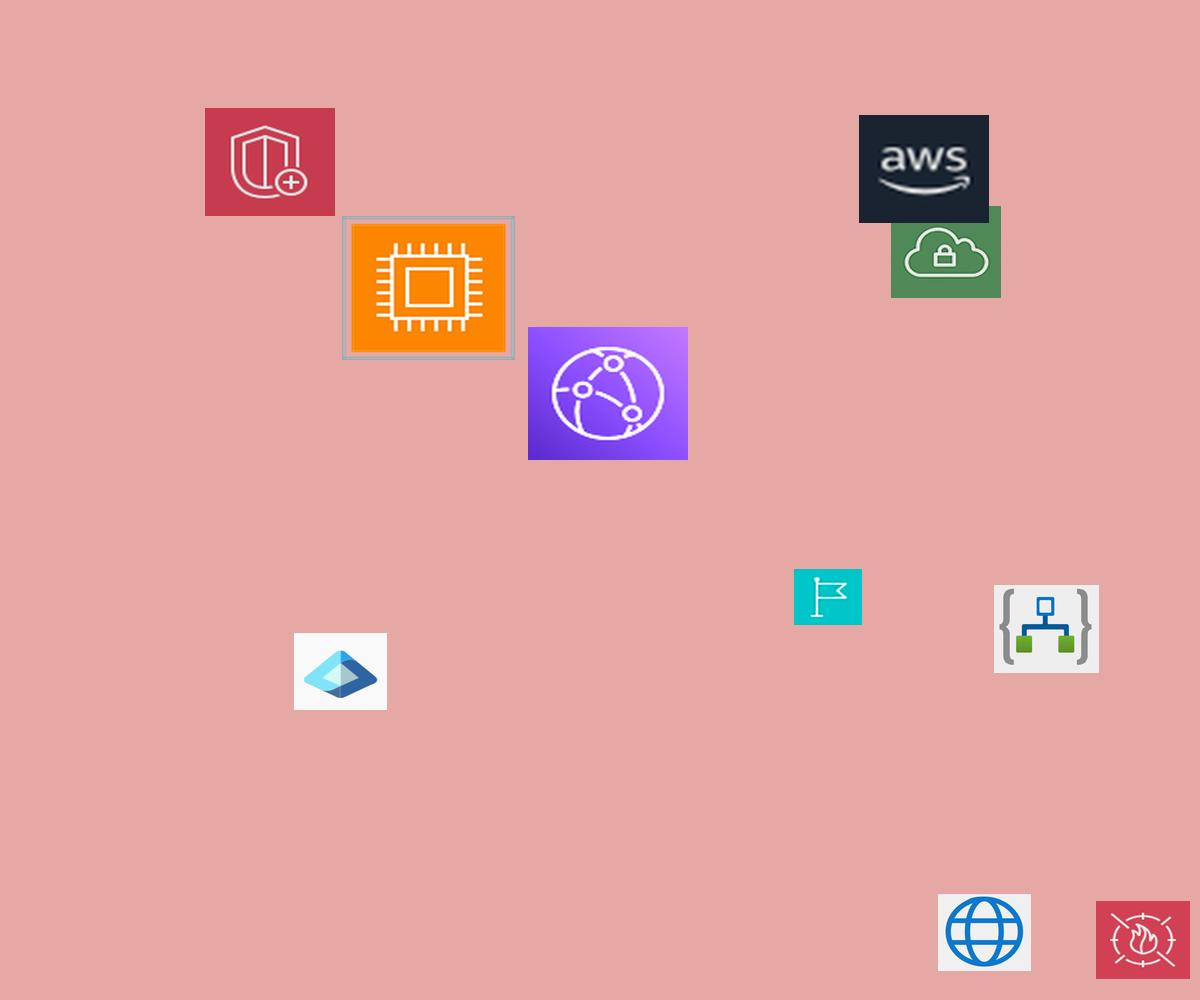AWS-Category_Compute: (342, 216, 515, 360)
AWS-Cloud-logo: (859, 115, 989, 223)
AWS-CloudFront: (528, 327, 688, 460)
AWS-Private_vpc: (891, 206, 1001, 298)
AWS-Region: (794, 569, 862, 625)
AWS-Shield: (205, 108, 335, 216)
AWS-WAF: (1096, 901, 1190, 979)
Azure_http: (938, 894, 1031, 971)
Azure_integration-204-Logic-Apps: (994, 585, 1099, 673)
Azure_microsoft_entra: (294, 633, 387, 710)
